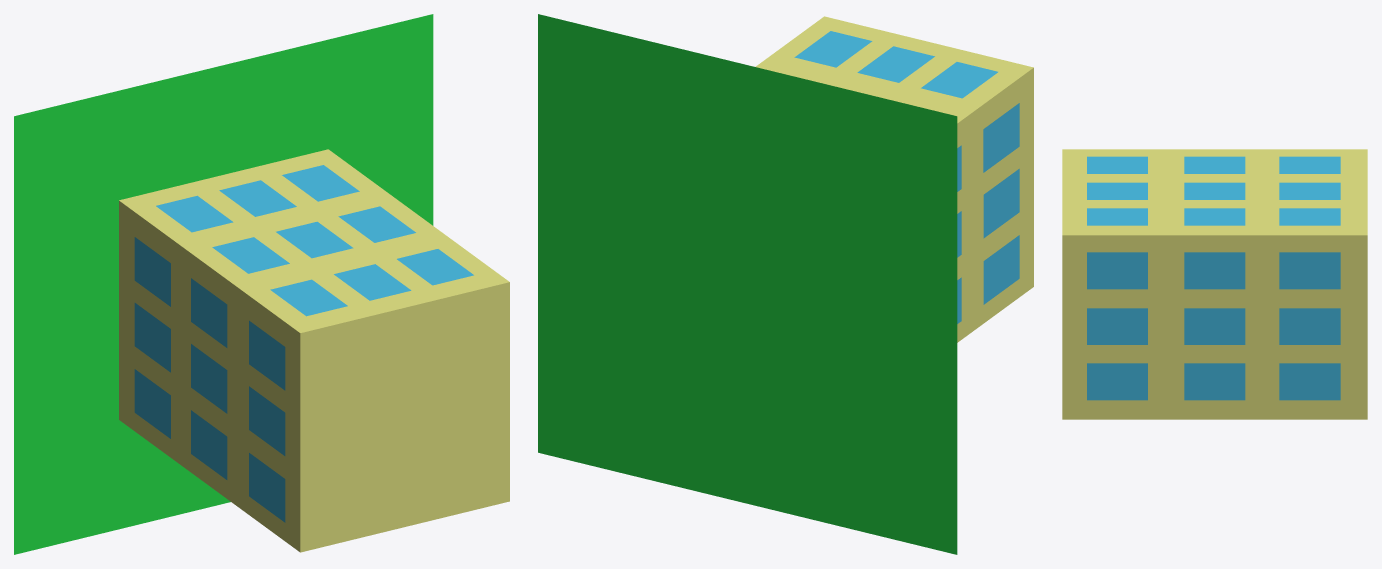
Rendered from building0.glb.
3 renders of one model, left to right at view 1: azimuth 30°, elevation 25°; view 2: azimuth 150°, elevation 25°; view 3: azimuth 270°, elevation 25°, orthographic. The views are drawn at different scales.
Visible parts, largest first — view 1: Plane.001, Plane; view 2: Plane, Plane.001; view 3: Plane.001.
Part boxes in pixels (left/top/right/bottom): Plane.001: left=119, top=149, right=509, bottom=552; Plane: left=14, top=14, right=433, bottom=554; Plane: left=538, top=14, right=957, bottom=554; Plane.001: left=755, top=16, right=1033, bottom=342; Plane.001: left=1062, top=149, right=1367, bottom=419.
Size of the model in its own units: 1 by 1 by 0.75.
